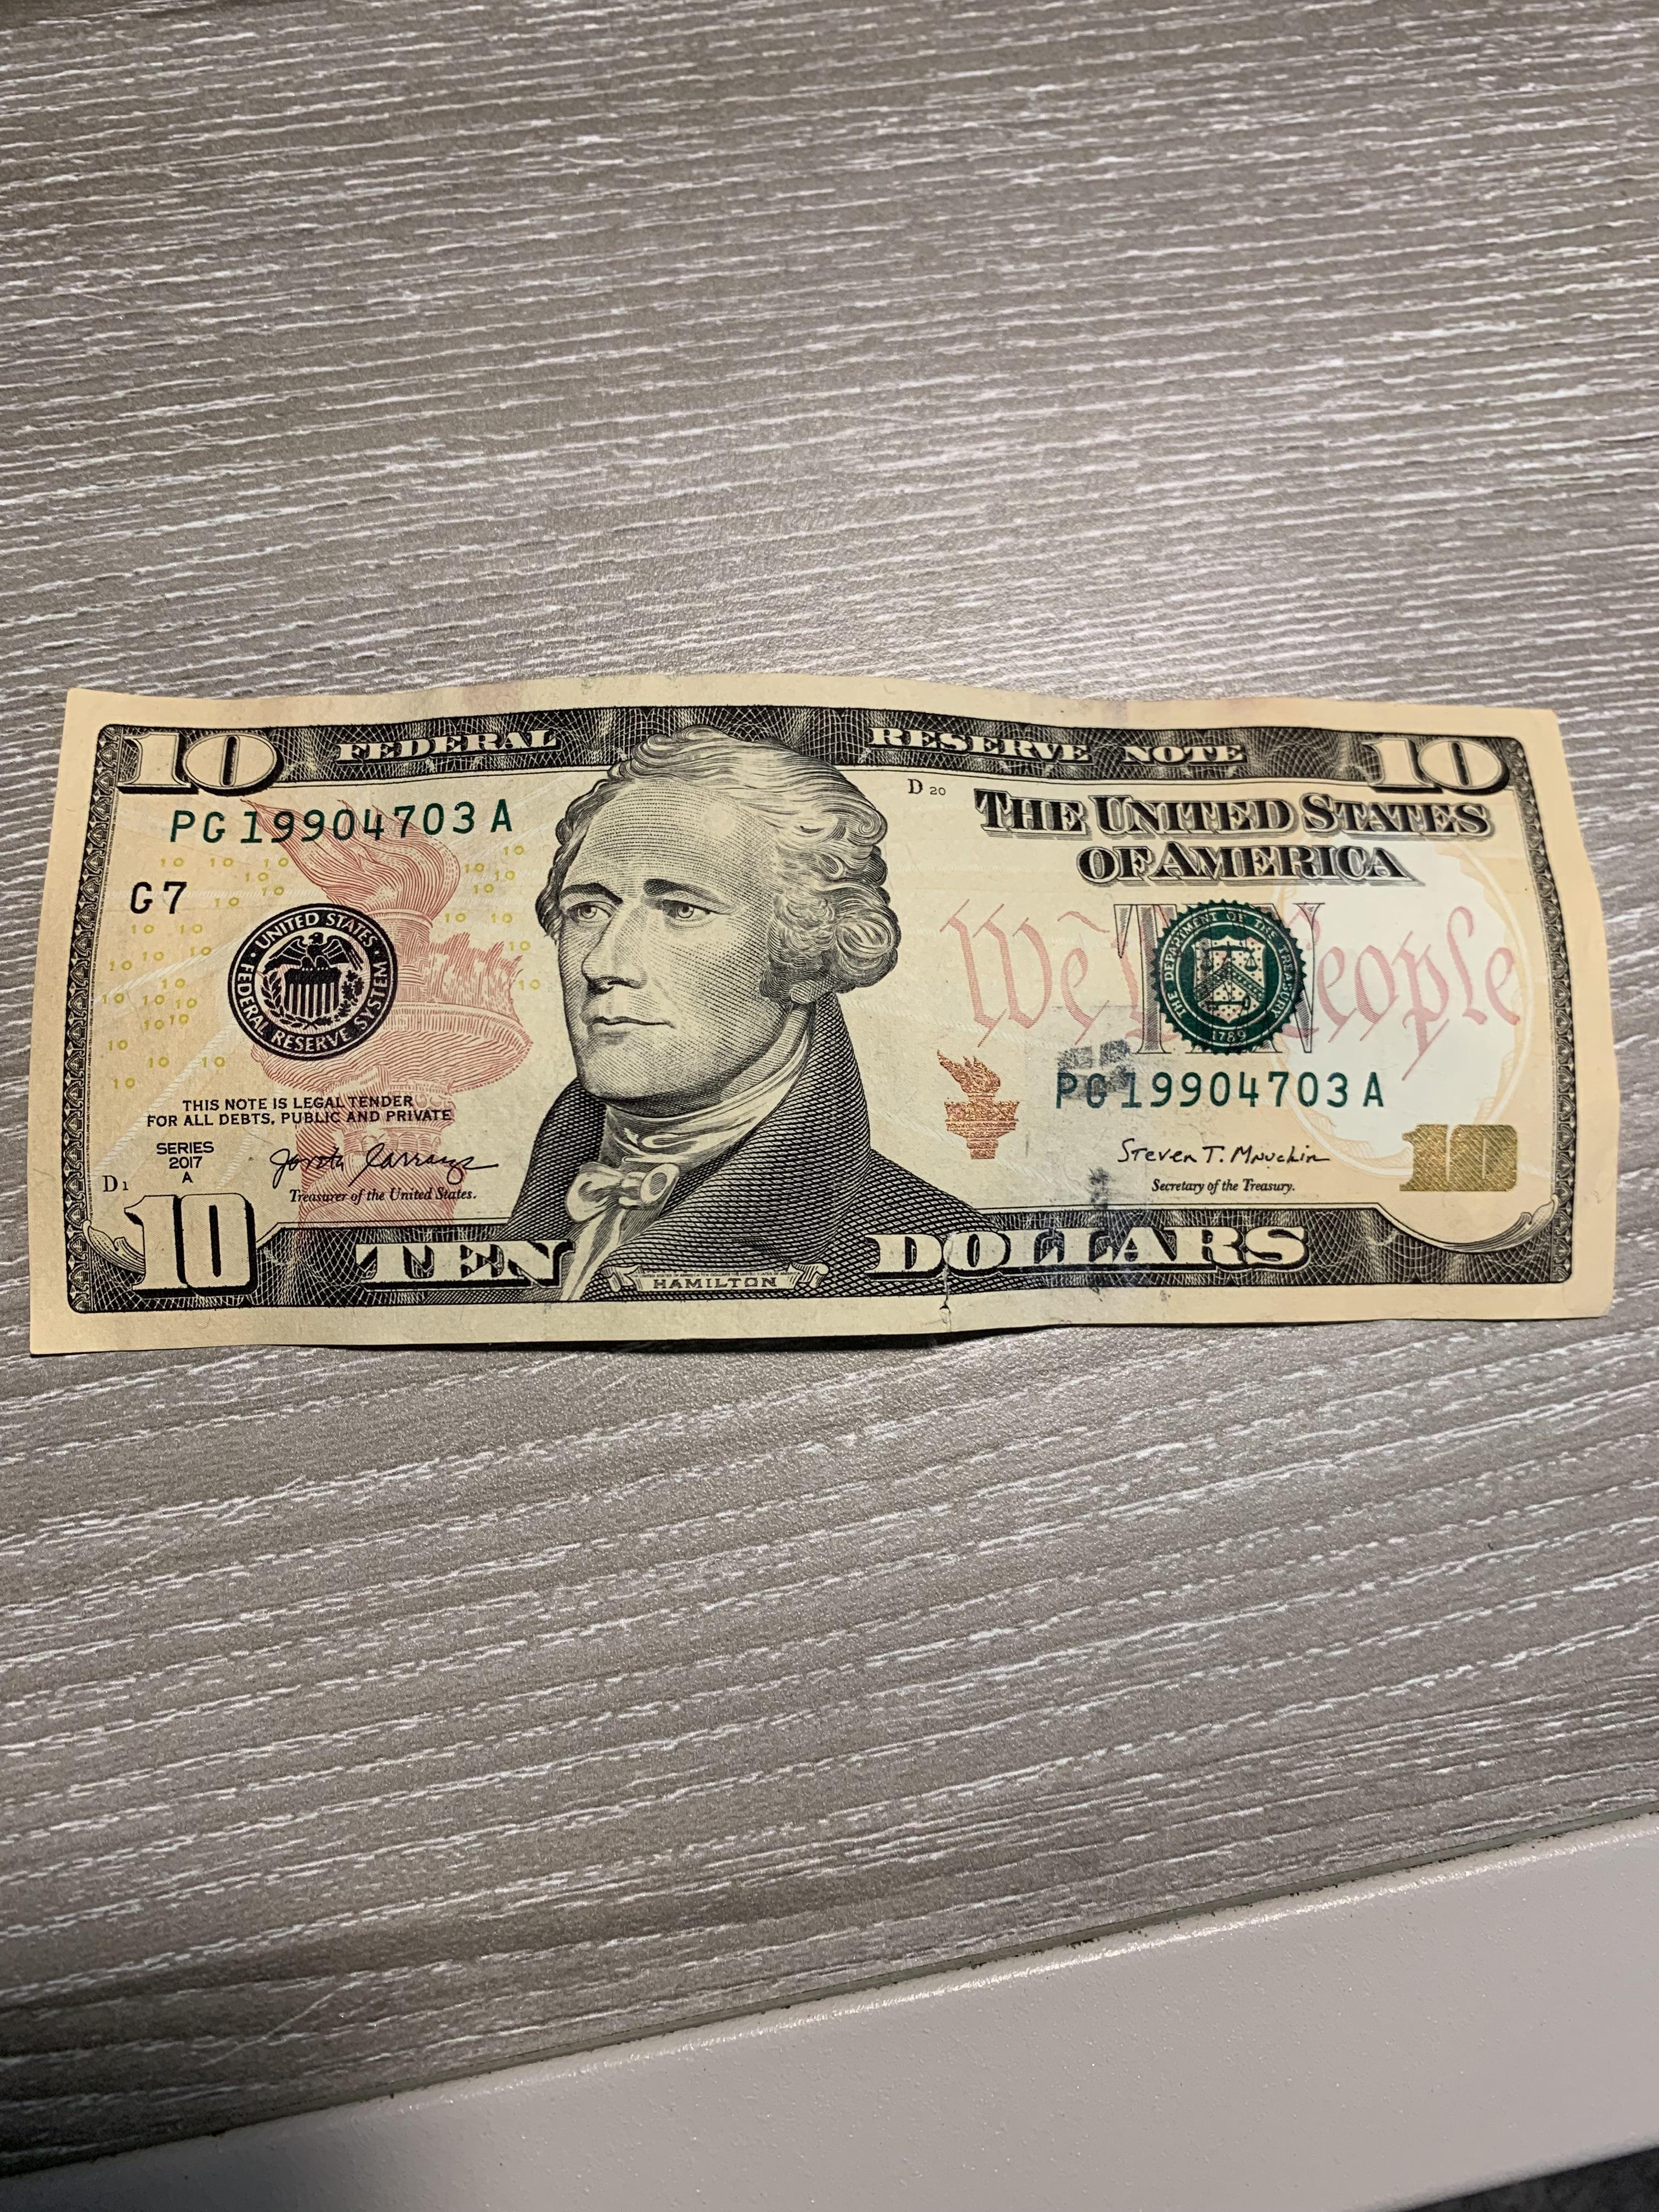TenBill: (14, 665, 1628, 1366)
